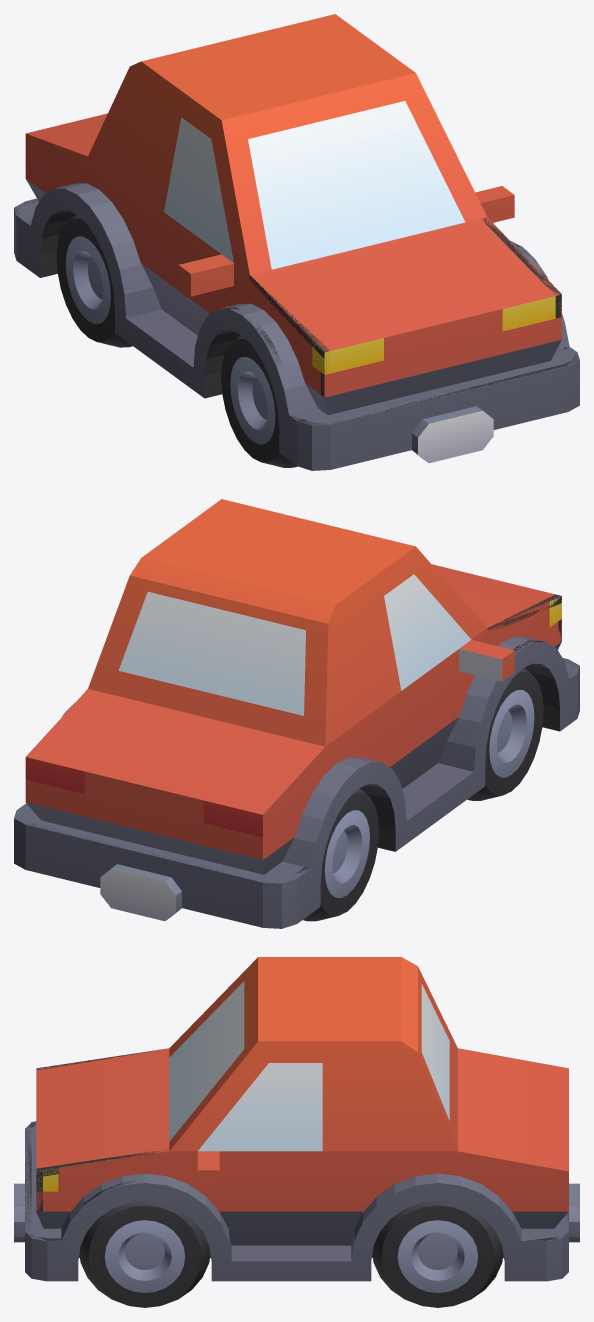
File: ToySedan.fbx
3 views of the same model, one above another, from view 1: azimuth 30°, elevation 25°; view 2: azimuth 150°, elevation 25°; view 3: azimuth 270°, elevation 25° (orthographic). The views are drawn at different scales.
Parts seen in each view (by area): view 1: ToySedan_Body, ToySedan_Part_Hood, ToySedan_Part_FrontBumper, ToySedan_Part_Grille, Wheel_FR, Wheel_RR, ToySedan_Part_DoorRight, ToySedan_Part_FenderRight, ToySedan_Part_Trunk, ToySedan_Part_RearBumper; view 2: ToySedan_Body, ToySedan_Part_Trunk, ToySedan_Part_RearBumper, ToySedan_Part_DoorRight, Wheel_RR, Wheel_FR, ToySedan_Part_FenderRight, ToySedan_Part_Hood, ToySedan_Part_FrontBumper; view 3: ToySedan_Body, ToySedan_Part_Hood, ToySedan_Part_Trunk, ToySedan_Part_DoorLeft, Wheel_RL, Wheel_FL, ToySedan_Part_FenderLeft, ToySedan_Part_RearBumper, ToySedan_Part_FrontBumper.
Part boxes in pixels (x1,y1,x2,y2): ToySedan_Body: (14,14,579,463); ToySedan_Part_Hood: (250,222,561,351); ToySedan_Part_FrontBumper: (277,321,579,470); ToySedan_Part_Grille: (324,296,561,398); Wheel_FR: (221,335,297,467); Wheel_RR: (56,214,132,347); ToySedan_Part_DoorRight: (133,202,235,319); ToySedan_Part_FenderRight: (214,249,324,409); ToySedan_Part_Trunk: (26,113,107,156); ToySedan_Part_RearBumper: (14,180,44,277); ToySedan_Body: (14,499,579,921); ToySedan_Part_Trunk: (26,689,324,814); ToySedan_Part_RearBumper: (14,803,320,928); ToySedan_Part_DoorRight: (371,649,472,772); Wheel_RR: (303,788,378,921); Wheel_FR: (467,668,543,800); ToySedan_Part_FenderRight: (470,597,561,711); ToySedan_Part_Hood: (431,564,560,627); ToySedan_Part_FrontBumper: (540,642,579,731); ToySedan_Body: (14,957,579,1281); ToySedan_Part_Hood: (36,1048,169,1170); ToySedan_Part_Trunk: (458,1048,568,1171); ToySedan_Part_DoorLeft: (195,1151,376,1222); Wheel_RL: (372,1201,503,1307); Wheel_FL: (79,1201,210,1307); ToySedan_Part_FenderLeft: (36,1151,194,1244); ToySedan_Part_RearBumper: (504,1212,568,1281); ToySedan_Part_FrontBumper: (25,1212,82,1281).
Bounding box in the file's own units: 1.5 × 1.3 × 2.55.
3 materials, 3 textured.
